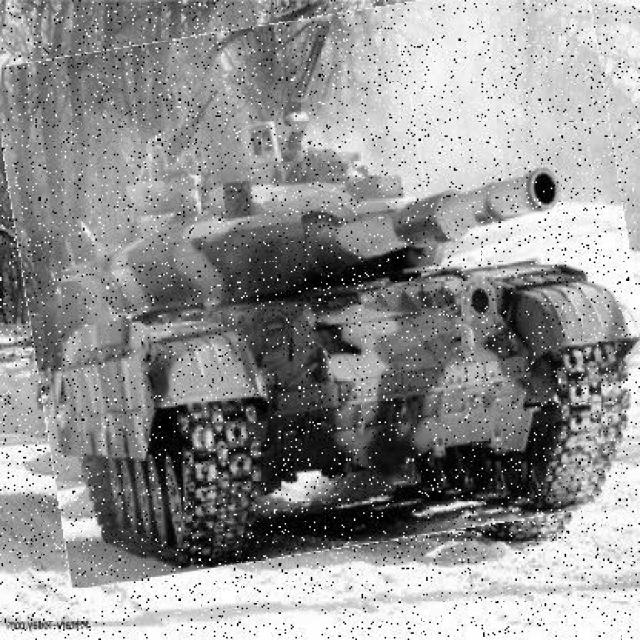Tank: (11, 1, 640, 570)
